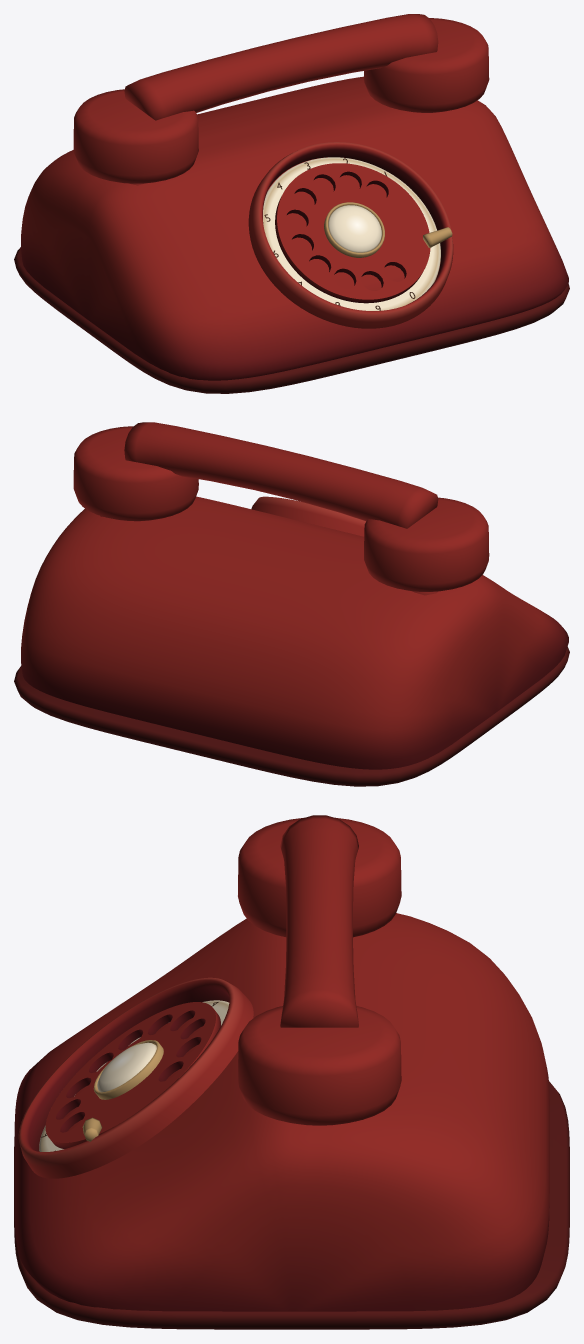
Rendered from bread-phone.glb.
3 renders of one model, top to bottom at view 1: azimuth 30°, elevation 25°; view 2: azimuth 150°, elevation 25°; view 3: azimuth 270°, elevation 25°, orthographic. The views are drawn at different scales.
Visible parts, largest first — view 1: phone_body, handset_body, dial_wheel, dial_plate, dial_cap, dial_stop; view 2: phone_body, handset_body; view 3: phone_body, handset_body, dial_wheel, dial_cap, dial_stop.
Part boxes in pixels (x1=…): phone_body: x1=14, y1=76, x2=569, y2=393; handset_body: x1=73, y1=14, x2=489, y2=183; dial_wheel: x1=275, y1=163, x2=430, y2=303; dial_plate: x1=263, y1=157, x2=440, y2=310; dial_cap: x1=328, y1=205, x2=381, y2=252; dial_stop: x1=324, y1=202, x2=452, y2=257; phone_body: x1=14, y1=496, x2=569, y2=786; handset_body: x1=73, y1=422, x2=489, y2=591; phone_body: x1=14, y1=913, x2=569, y2=1329; handset_body: x1=237, y1=815, x2=401, y2=1125; dial_wheel: x1=45, y1=1002, x2=220, y2=1148; dial_cap: x1=97, y1=1042, x2=156, y2=1092; dial_stop: x1=82, y1=1040, x2=163, y2=1141.
Bounding box in the file's own units: 0.1275 × 0.0677 × 0.1129.
